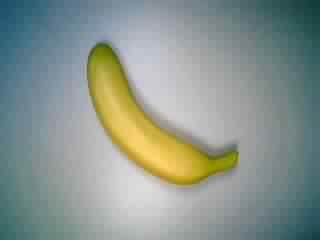banana: (82, 39, 243, 192)
